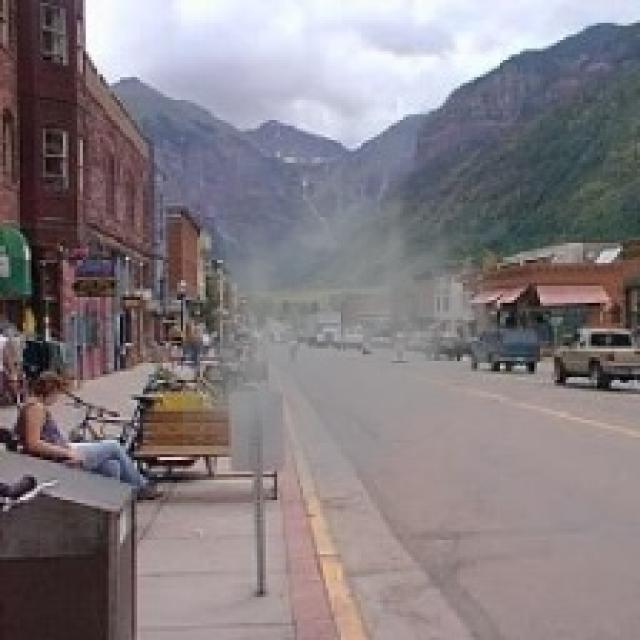smoke: (183, 143, 534, 514)
